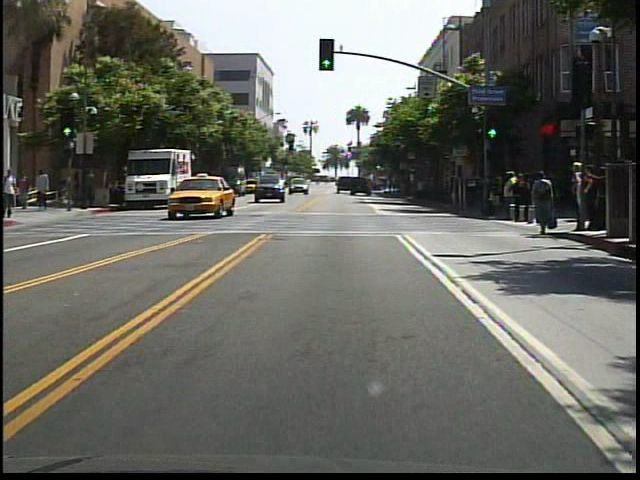person: (527, 168, 556, 236), (500, 166, 519, 226), (35, 165, 55, 214), (7, 168, 24, 220), (85, 168, 102, 208), (19, 171, 35, 213), (73, 169, 85, 206)
